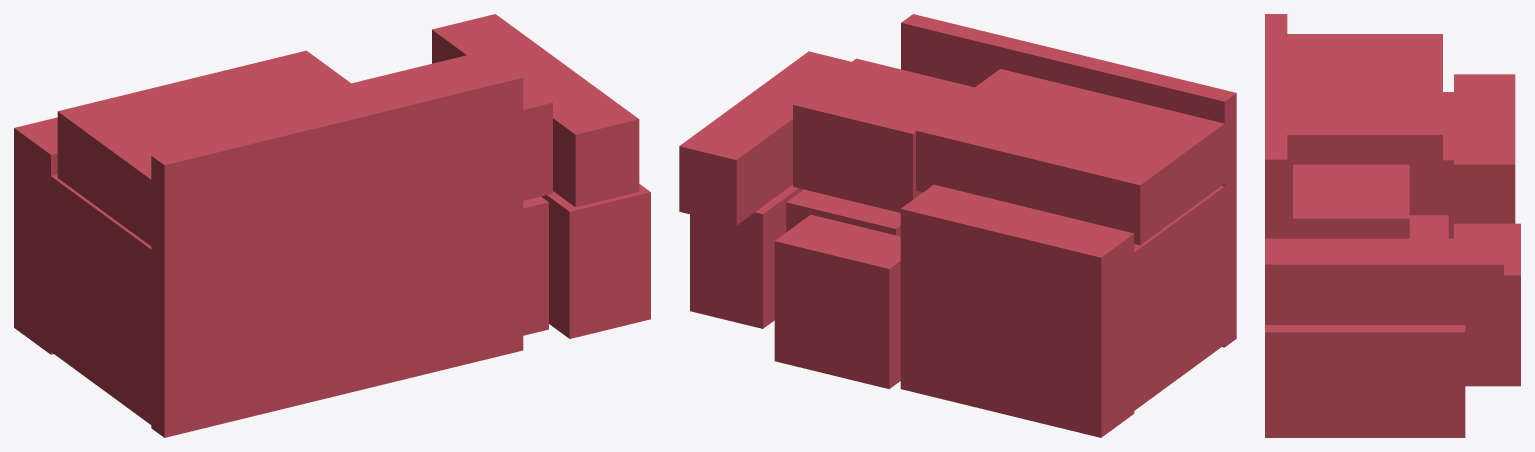
The model's file is 11boxesnew.glb.
3 views of the same model, side by side, from view 1: azimuth 30°, elevation 25°; view 2: azimuth 150°, elevation 25°; view 3: azimuth 270°, elevation 25° (orthographic). The views are drawn at different scales.
Visible parts, largest first — view 1: Mesh_Mesh_head_geo.001_lambert2SG.001; view 2: Mesh_Mesh_head_geo.001_lambert2SG.001; view 3: Mesh_Mesh_head_geo.001_lambert2SG.001.
Part boxes in pixels (<box>): Mesh_Mesh_head_geo.001_lambert2SG.001: <box>14,14,650,437</box>; Mesh_Mesh_head_geo.001_lambert2SG.001: <box>679,14,1236,437</box>; Mesh_Mesh_head_geo.001_lambert2SG.001: <box>1265,14,1520,437</box>.
Size of the model in its own units: 0.042 by 0.0225 by 0.023.
